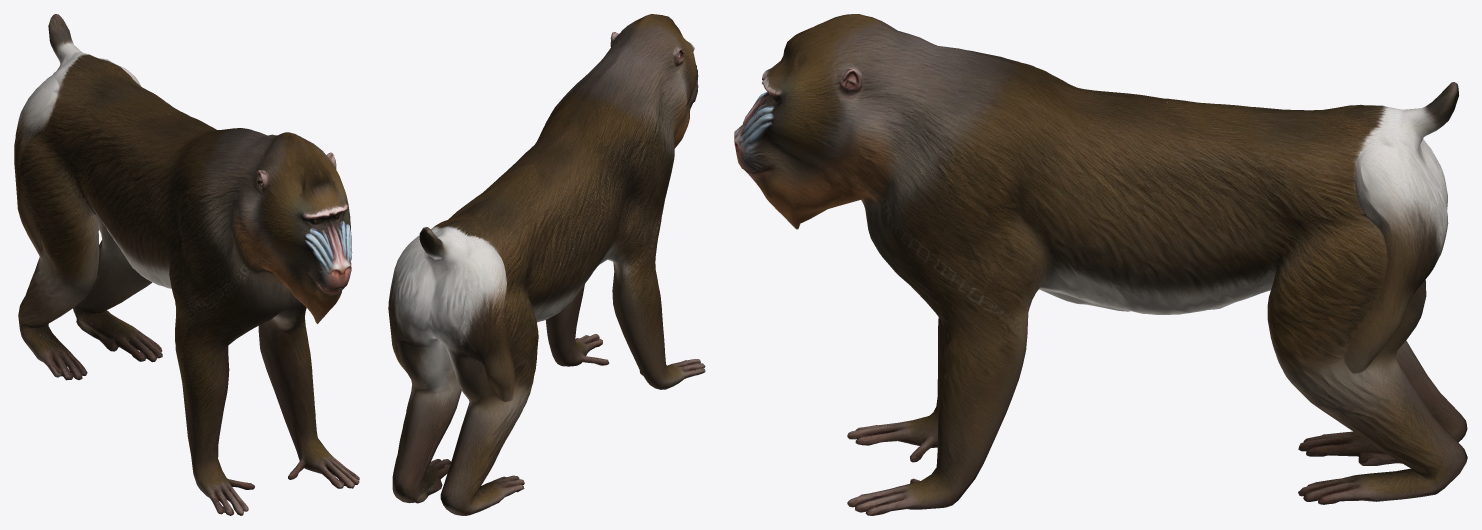
The model's file is baboon.glb.
3 views of the same model, side by side, from view 1: azimuth 30°, elevation 25°; view 2: azimuth 150°, elevation 25°; view 3: azimuth 270°, elevation 25° (orthographic). The views are drawn at different scales.
Size of the model in its own units: 0.5278 by 1.33 by 1.9.
1 material, 1 textured.
